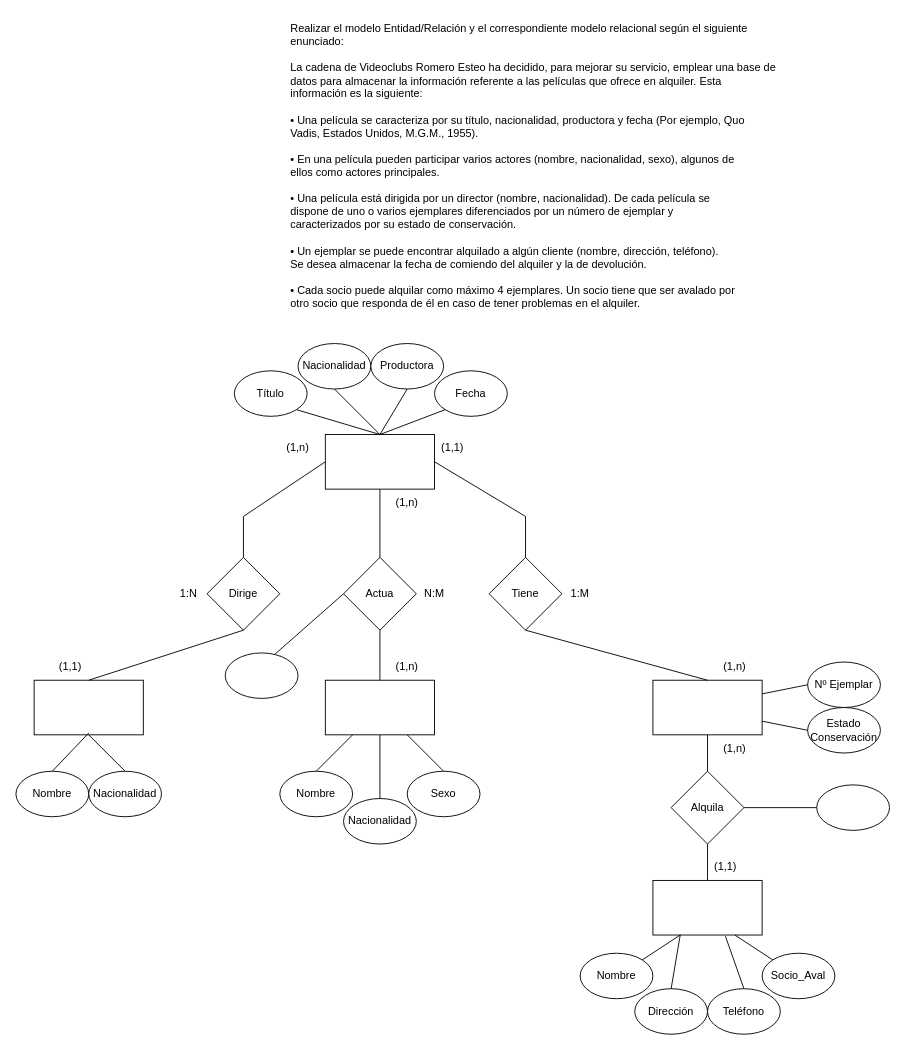
Image size: 905x1050. Some labels were removed from this diagram. The centre of each missing label's shape, as x and y in pixels:
"ACTORES" belongs at point 379,707.
"DIRECTOR" belongs at point 88,707.
"EJEMPLARES" belongs at point 707,707.
"Es Principal?" belongs at point 261,675.
"Numero Ejemplares" belongs at point 853,807.
"PELICULA" belongs at point 379,461.
"SOCIO" belongs at point 707,907.
